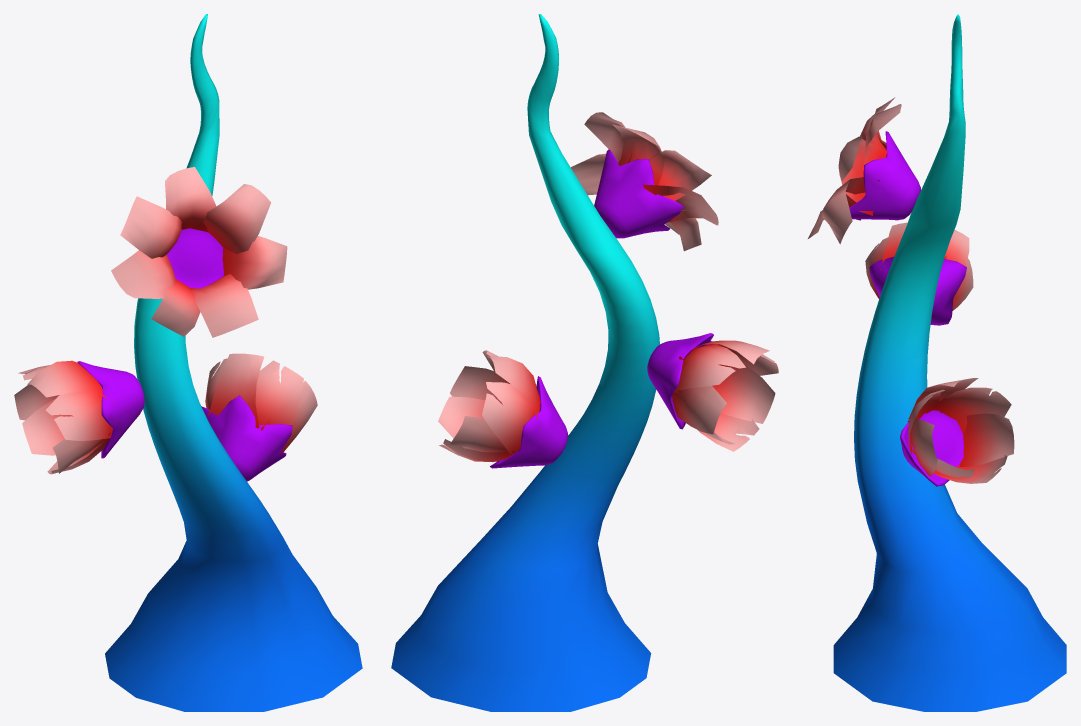
File: Plant_2.fbx
3 views of the same model, side by side, from view 1: azimuth 30°, elevation 25°; view 2: azimuth 150°, elevation 25°; view 3: azimuth 270°, elevation 25° (orthographic). The views are drawn at different scales.
Parts seen in each view (by area): view 1: Plane028adhg; view 2: Plane028adhg; view 3: Plane028adhg.
Boxes of the visible parts, left/top/right/bottom form: Plane028adhg: left=14, top=14, right=362, bottom=711; Plane028adhg: left=391, top=14, right=778, bottom=711; Plane028adhg: left=808, top=14, right=1066, bottom=711.
Bounding box in the file's own units: 16.44 × 30.94 × 11.47.
Materials: 1 (1 with a texture image).
